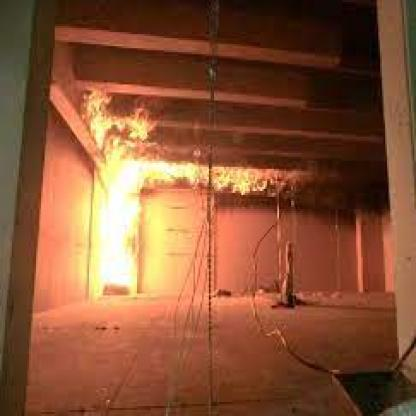fire: (74, 89, 329, 293)
